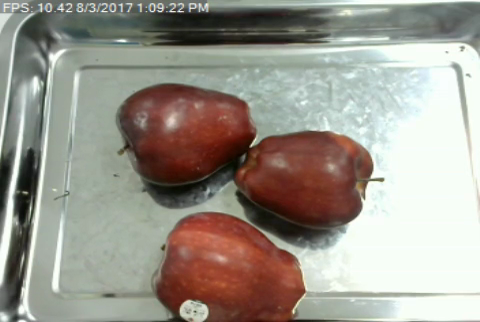Apple: (152, 209, 305, 322), (117, 80, 259, 191), (236, 126, 374, 231)
